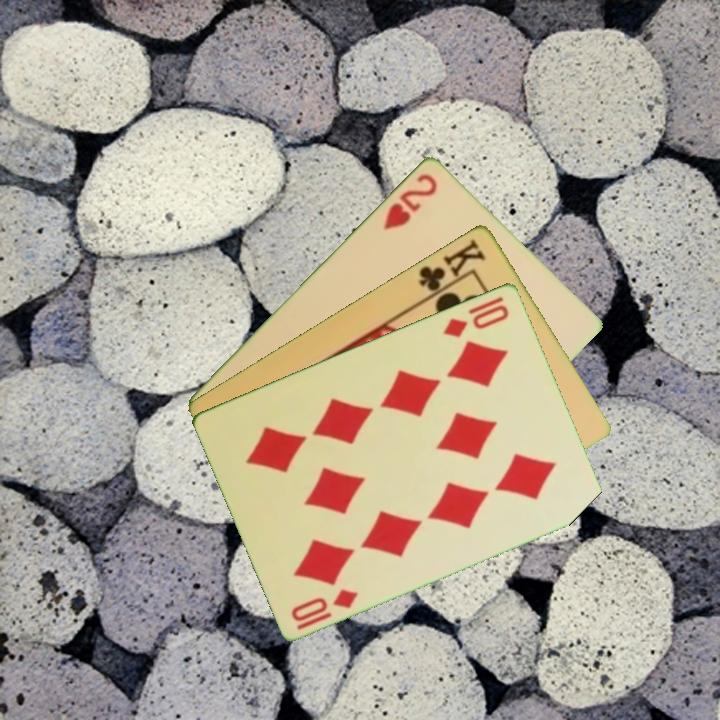10d: (287, 584, 362, 633), (440, 300, 512, 340)
2h: (380, 169, 440, 232)
Kc: (415, 235, 489, 301)
